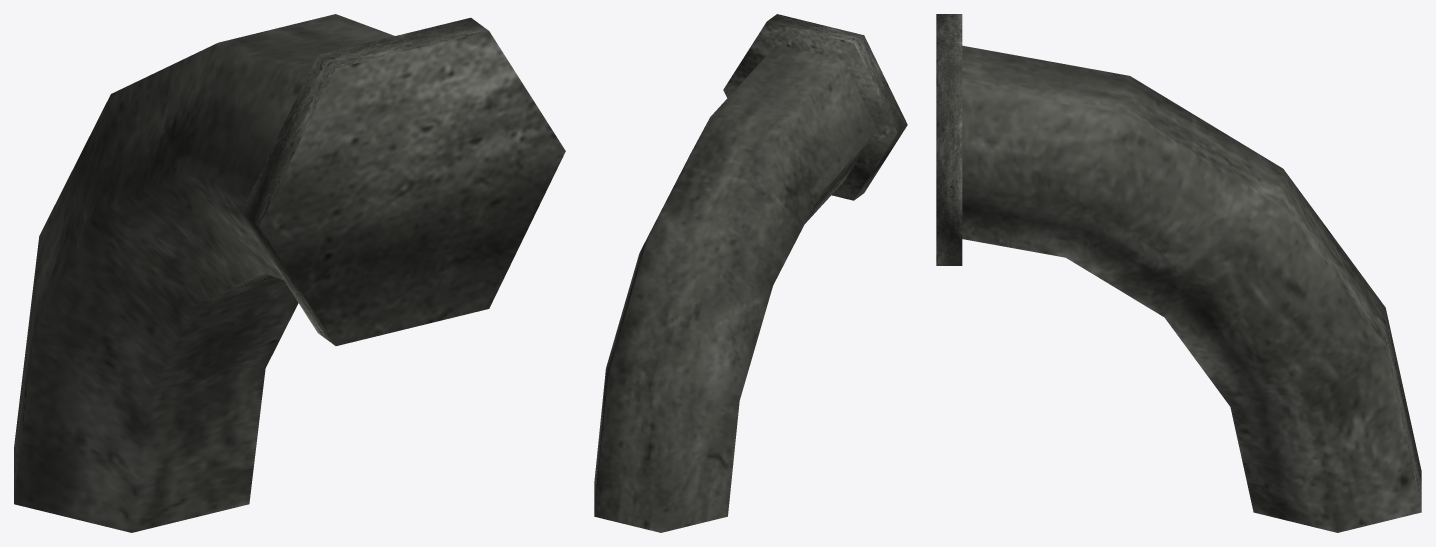
The model's file is small_metal_4_elbow.fbx.
The picture shows the model from 3 angles, left to right: view 1: azimuth 30°, elevation 25°; view 2: azimuth 150°, elevation 25°; view 3: azimuth 270°, elevation 25°; orthographic projection. The views are drawn at different scales.
Visible parts, largest first — view 1: polySurface525; view 2: polySurface525; view 3: polySurface525.
Boxes of the visible parts, <box> form: polySurface525: <box>14,14,565,532</box>; polySurface525: <box>594,14,907,532</box>; polySurface525: <box>936,14,1421,532</box>.
Bounding box in the file's own units: 1.3 × 2.56 × 2.5.
